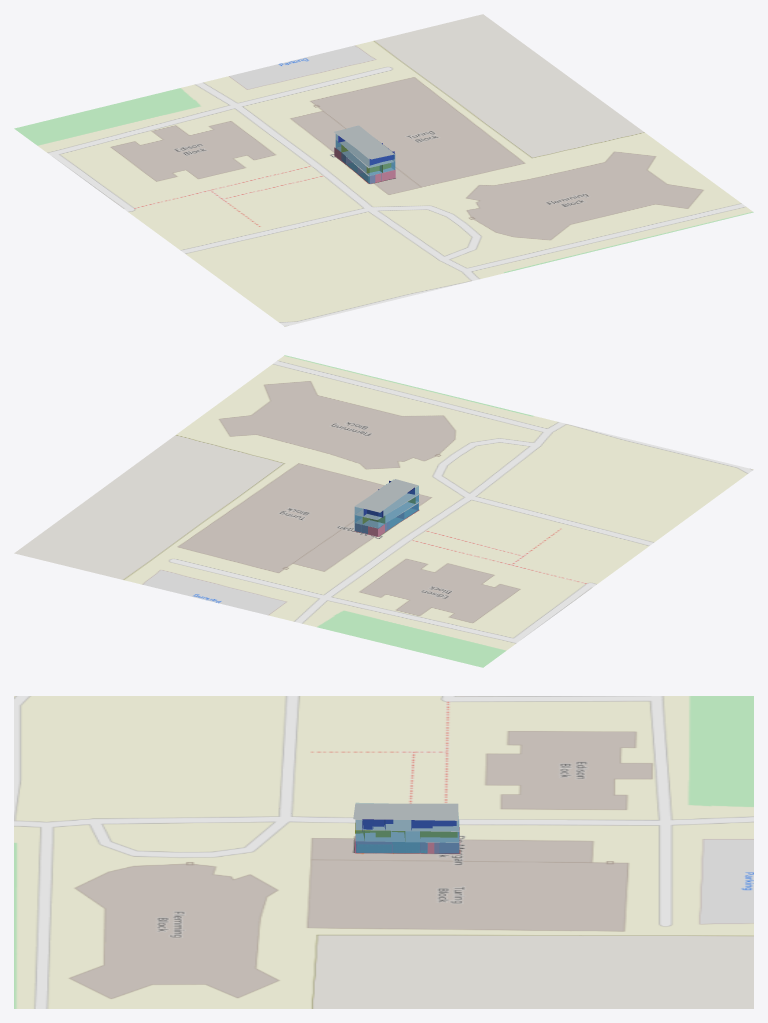
Rendered from mymodel2.gltf.
The picture shows the model from 3 angles, top to bottom: view 1: azimuth 30°, elevation 25°; view 2: azimuth 150°, elevation 25°; view 3: azimuth 270°, elevation 25°; orthographic projection. The views are drawn at different scales.
Visible parts, largest first — view 1: Flat Plane, boundary, Outer_wall; view 2: Flat Plane, boundary, Outer_wall; view 3: Flat Plane, Outer_wall, boundary, Innerwalls_floor3.
Part boxes in pixels (left/top/right/bottom): Flat Plane: left=14, top=14, right=753, bottom=326; boundary: left=334, top=125, right=394, bottom=176; Outer_wall: left=335, top=134, right=395, bottom=183; Flat Plane: left=14, top=355, right=753, bottom=667; boundary: left=354, top=479, right=419, bottom=528; Outer_wall: left=354, top=479, right=418, bottom=533; Flat Plane: left=14, top=696, right=753, bottom=1008; Outer_wall: left=355, top=803, right=459, bottom=853; boundary: left=353, top=803, right=459, bottom=842; Innerwalls_floor3: left=362, top=819, right=456, bottom=831.
Size of the model in its own units: 181 by 9 by 181.
Materials: 8 (2 with a texture image).
